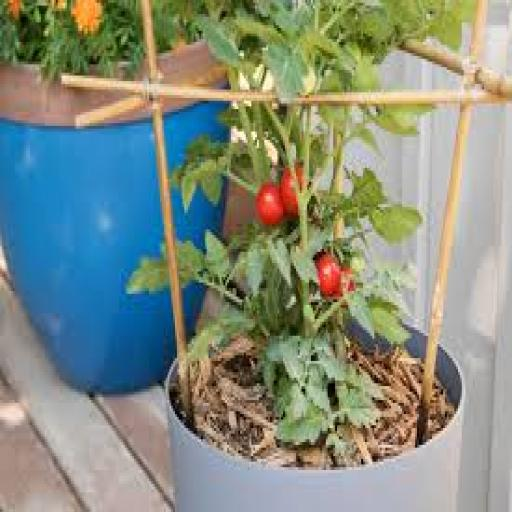tomato: (257, 182, 284, 226), (315, 255, 340, 296), (280, 168, 297, 215), (341, 269, 355, 296)
